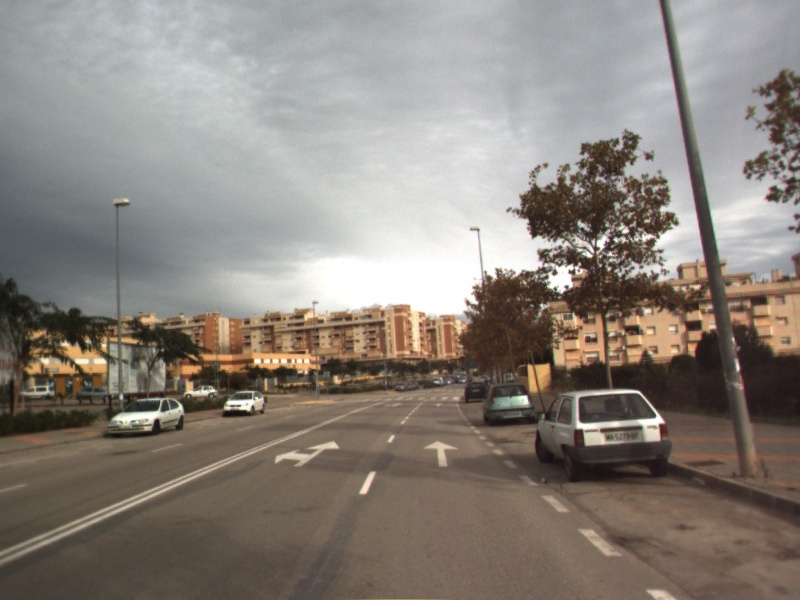STRAIGHT: (421, 438, 460, 469)
STRAIGHT_LEFT: (273, 438, 342, 469)
